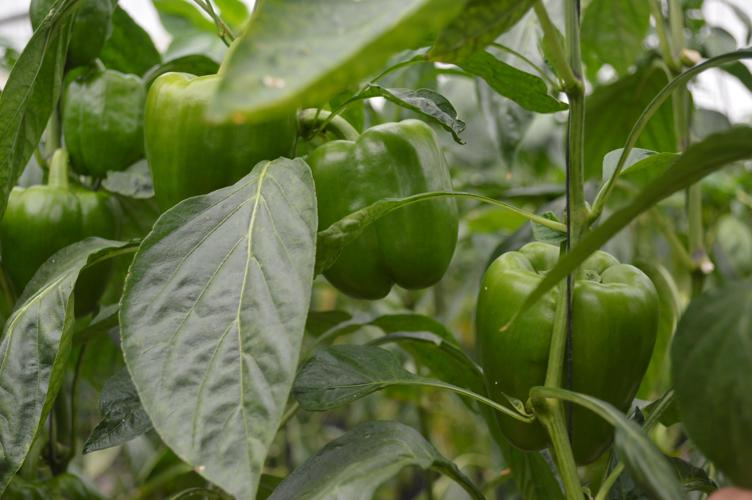BellPepper: (473, 234, 667, 480), (297, 133, 478, 290), (131, 70, 310, 217), (1, 192, 121, 335), (51, 65, 159, 184)
